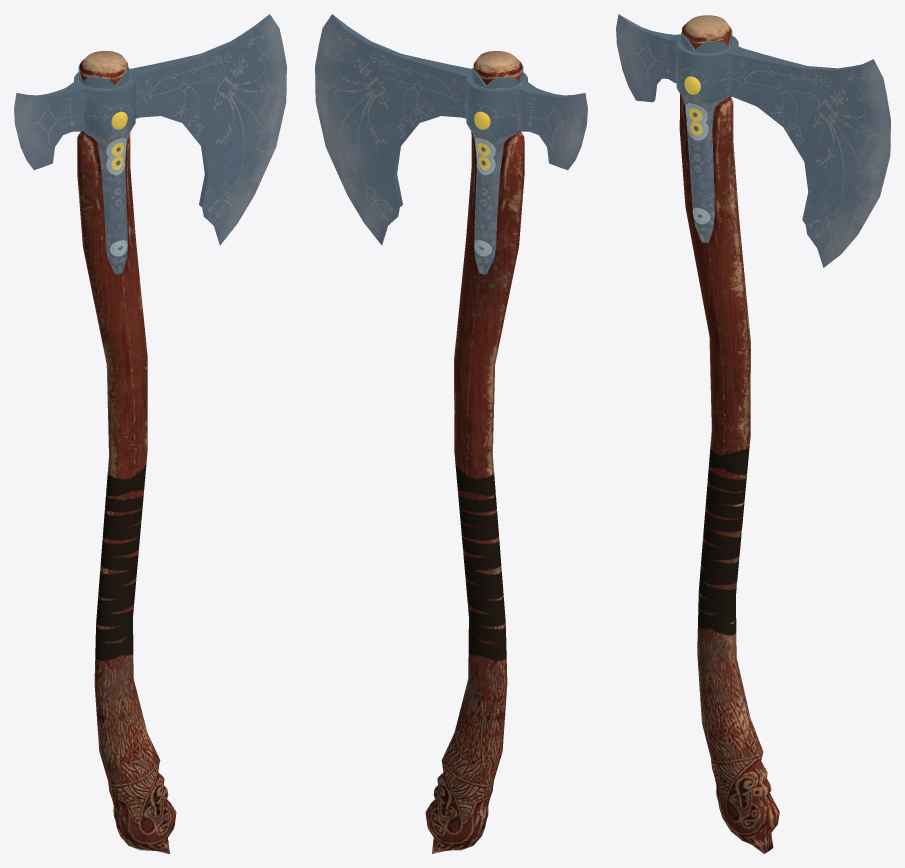
File: leviathan_axe-transformed.glb
3 views of the same model, side by side, from view 1: azimuth 30°, elevation 25°; view 2: azimuth 150°, elevation 25°; view 3: azimuth 330°, elevation 25° (orthographic).
Visible parts, largest first — view 1: defaultMaterial (×2); view 2: defaultMaterial (×2); view 3: defaultMaterial (×2).
Boxes of the visible parts, left/top/right/bottom form: defaultMaterial (×2): left=14, top=14, right=286, bottom=853; defaultMaterial (×2): left=315, top=14, right=587, bottom=853; defaultMaterial (×2): left=616, top=14, right=890, bottom=853.
Bounding box in the file's own units: 0.266 × 0.7559 × 0.0572.
Materials: 2 (2 with a texture image).
